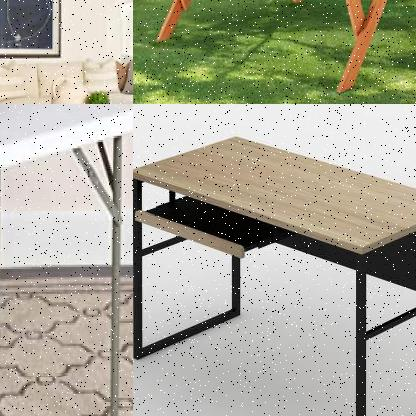table: (133, 130, 415, 415), (0, 104, 132, 415), (150, 0, 415, 96)
